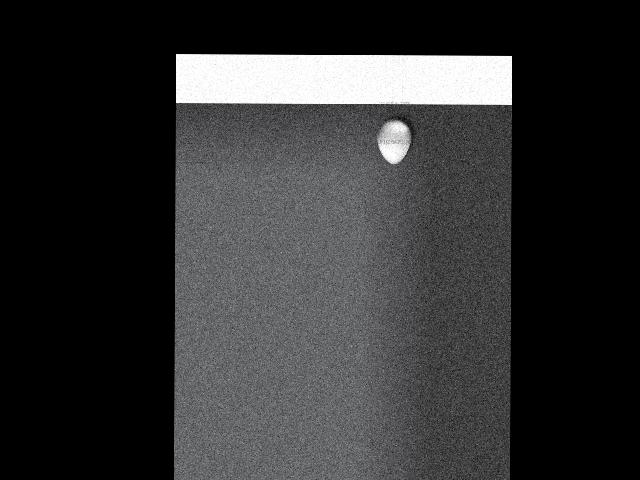egg: (376, 119, 411, 164)
